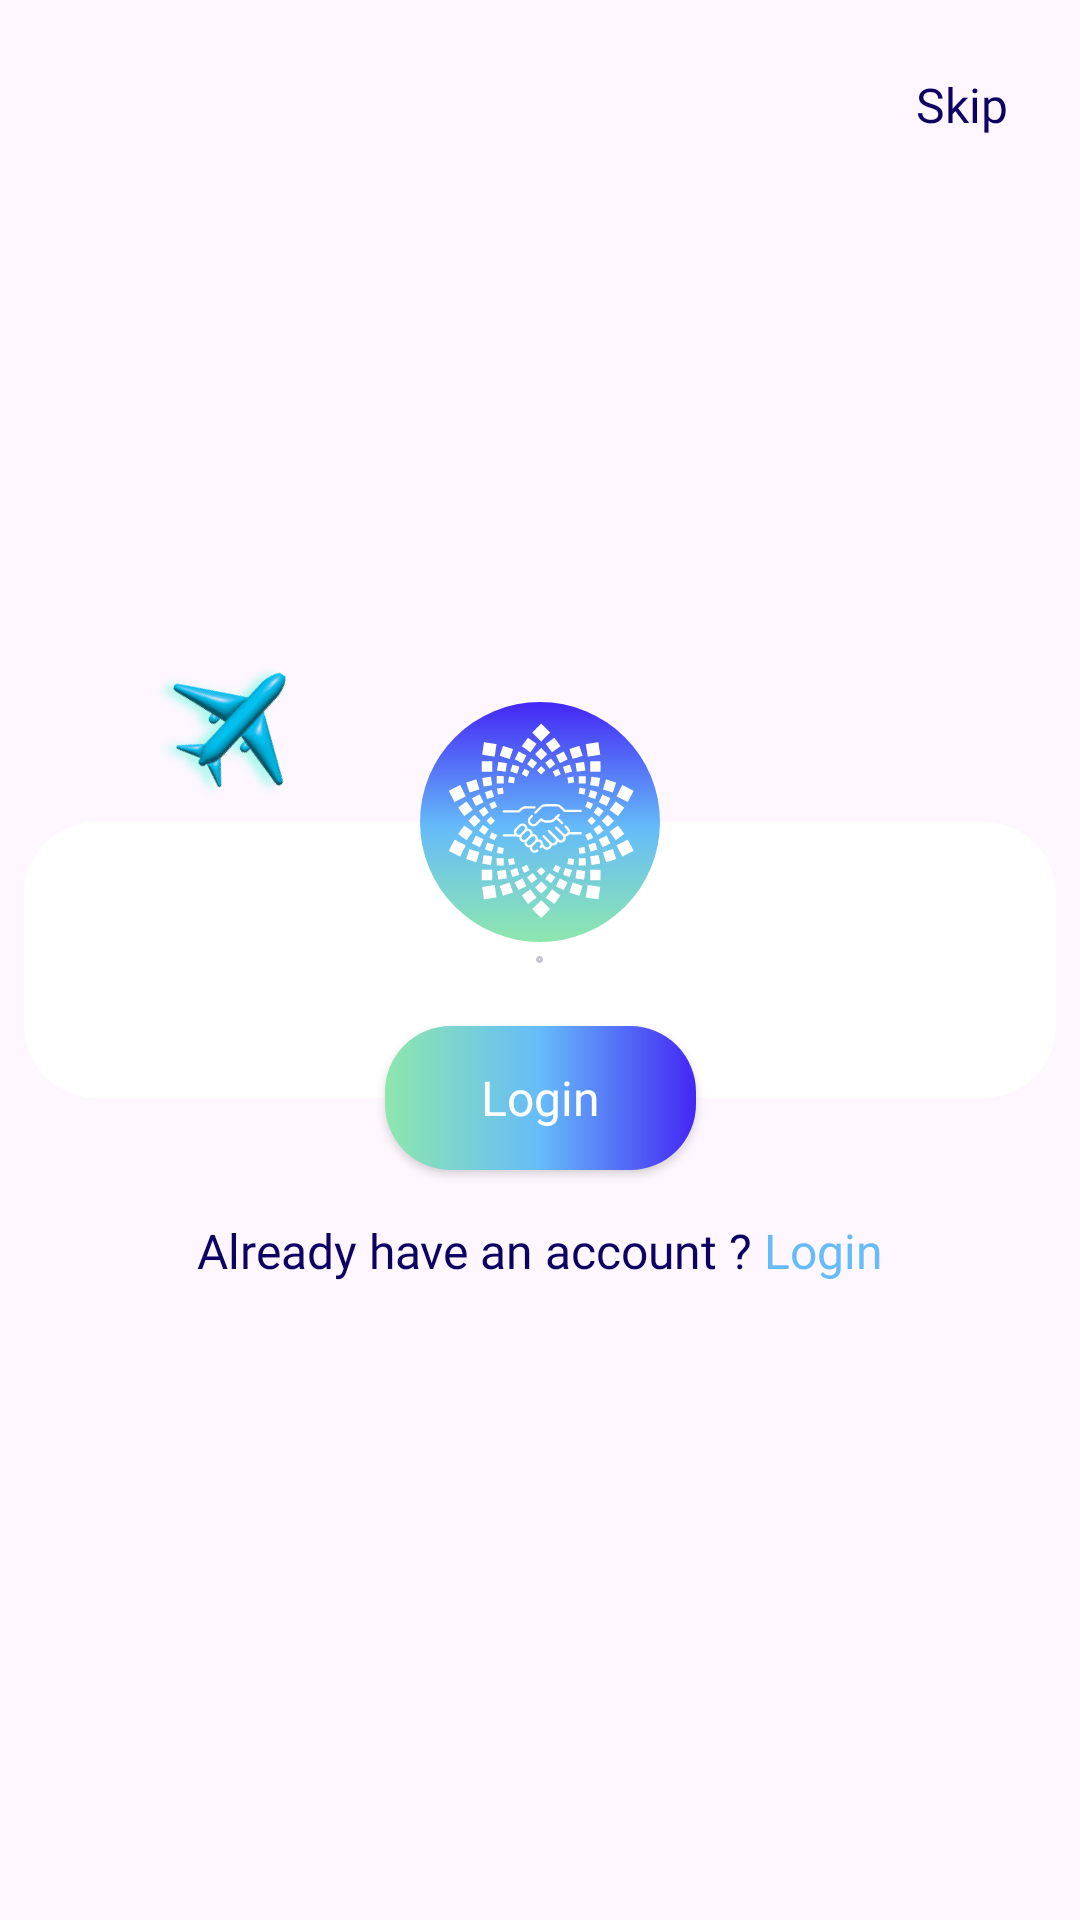

Icons on this 1080×1920 Android screen, each with the point to tap as (x=x, y=y):
plane: (x=225, y=730)
